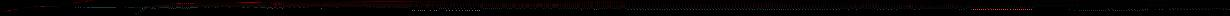Blue cone: (26, 7, 32, 8)
Yellow cone: (268, 2, 286, 6), (903, 5, 918, 8)
